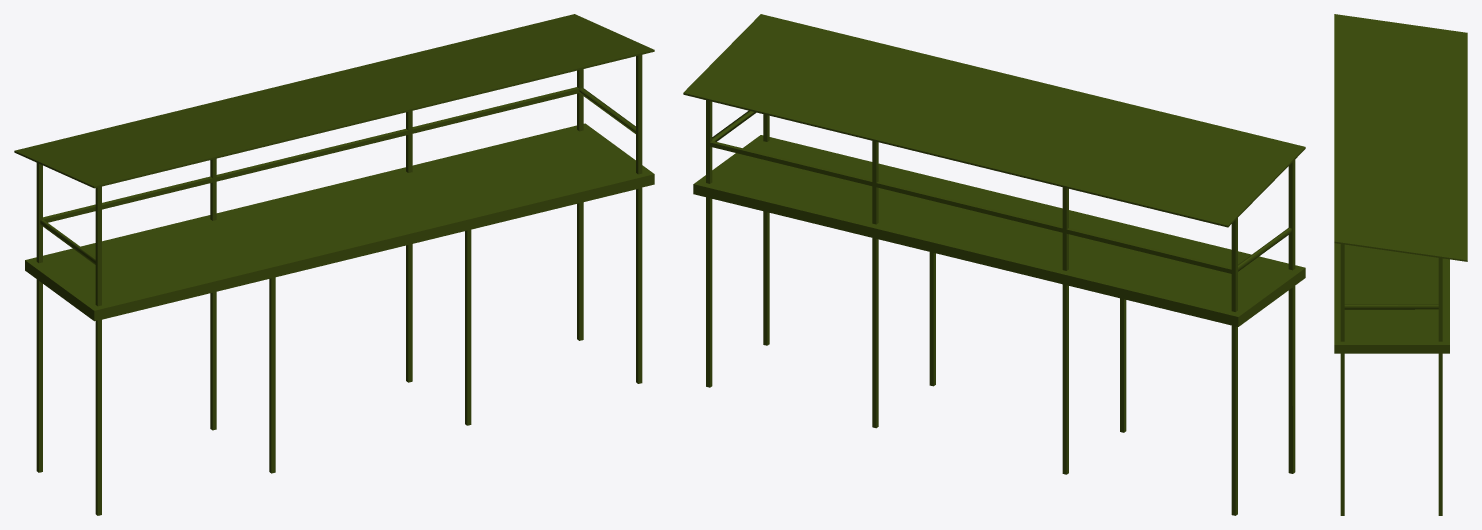
The model's file is T2_CamHut01_M.fbx.
The picture shows the model from 3 angles, left to right: view 1: azimuth 30°, elevation 25°; view 2: azimuth 150°, elevation 25°; view 3: azimuth 270°, elevation 25°; orthographic projection. The views are drawn at different scales.
Parts seen in each view (by area): view 1: T2_CamHut01; view 2: T2_CamHut01; view 3: T2_CamHut01.
Boxes of the visible parts, <box> form: T2_CamHut01: <box>14,14,654,515</box>; T2_CamHut01: <box>683,14,1305,515</box>; T2_CamHut01: <box>1334,14,1467,515</box>.
Size of the model in its own units: 5.47 by 3.11 by 1.35.
